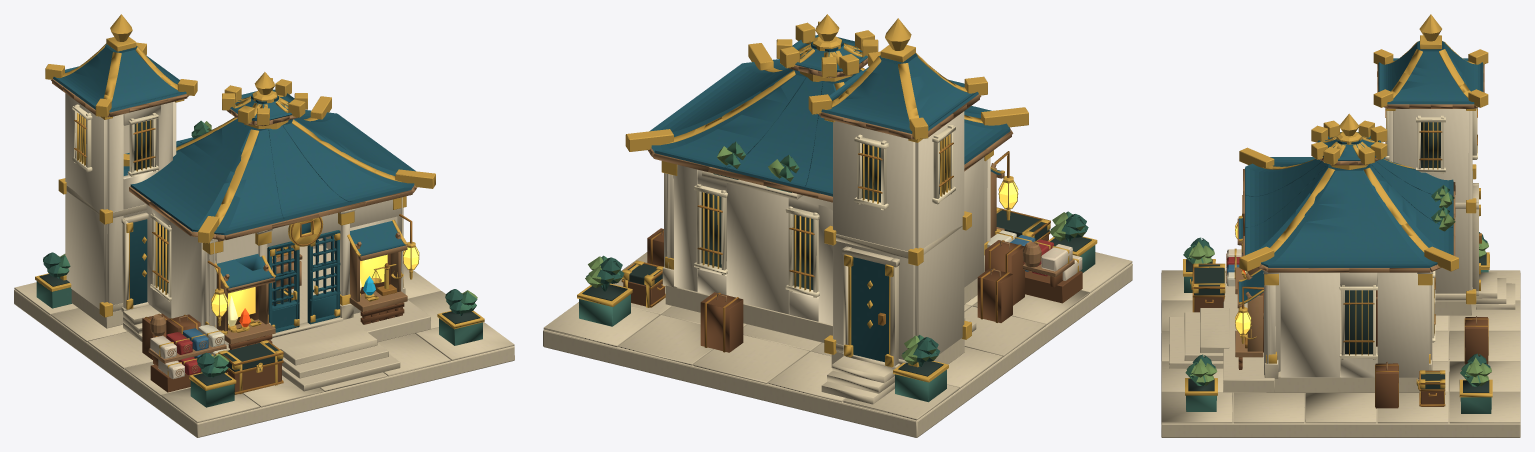
File: treasure-lod1-6e383590d2b8.glb
3 views of the same model, side by side, from view 1: azimuth 30°, elevation 25°; view 2: azimuth 150°, elevation 25°; view 3: azimuth 270°, elevation 25° (orthographic). The views are drawn at different scales.
Visible parts, largest first — view 1: RFbatch_0.026, RFbatch_36.026, RFbatch_9.026, RFbatch_39.026, RFbatch_12.026, RFbatch_41.026, RFbatch_48.026, RFbatch_61.026, RFbatch_20.026, RFbatch_75.026, RFbatch_50.026, RFbatch_40.026 (+5 smaller); view 2: RFbatch_0.026, RFbatch_9.026, RFbatch_36.026, RFbatch_39.026, RFbatch_48.026, RFbatch_61.026, RFbatch_20.026, RFbatch_12.026, RFbatch_41.026, RFbatch_75.026, RFbatch_40.026, RFbatch_79.022 (+3 smaller); view 3: RFbatch_0.026, RFbatch_36.026, RFbatch_9.026, RFbatch_39.026, RFbatch_61.026, RFbatch_12.026, RFbatch_48.026, RFbatch_20.026, RFbatch_79.022, RFbatch_40.026, RFbatch_75.026, RFbatch_78.026 (+2 smaller).
Part boxes in pixels (box(x1,y1,x2,y2)): RFbatch_0.026: box(14, 186, 514, 437); RFbatch_36.026: box(53, 46, 415, 288); RFbatch_9.026: box(65, 93, 403, 344); RFbatch_39.026: box(35, 14, 484, 393); RFbatch_12.026: box(51, 79, 417, 376); RFbatch_41.026: box(130, 219, 340, 332); RFbatch_48.026: box(142, 248, 404, 392); RFbatch_61.026: box(39, 114, 480, 385); RFbatch_20.026: box(72, 104, 171, 301); RFbatch_75.026: box(36, 281, 482, 407); RFbatch_50.026: box(211, 247, 418, 317); RFbatch_40.026: box(74, 120, 412, 394); RFbatch_0.026: box(543, 170, 1132, 437); RFbatch_9.026: box(664, 111, 990, 359); RFbatch_36.026: box(649, 35, 1010, 196); RFbatch_39.026: box(577, 14, 1097, 382); RFbatch_48.026: box(623, 228, 1082, 352); RFbatch_61.026: box(582, 136, 1091, 376); RFbatch_20.026: box(694, 124, 955, 297); RFbatch_12.026: box(647, 58, 1074, 301); RFbatch_41.026: box(851, 257, 888, 362); RFbatch_75.026: box(579, 173, 1095, 402); RFbatch_40.026: box(621, 142, 1050, 352); RFbatch_79.022: box(585, 143, 1086, 365); RFbatch_0.026: box(1161, 171, 1520, 437); RFbatch_36.026: box(1239, 42, 1483, 303); RFbatch_9.026: box(1264, 109, 1472, 377); RFbatch_39.026: box(1183, 14, 1492, 403); RFbatch_61.026: box(1186, 122, 1489, 392); RFbatch_12.026: box(1226, 64, 1484, 370); RFbatch_48.026: box(1194, 290, 1487, 408); RFbatch_20.026: box(1339, 107, 1477, 359); RFbatch_79.022: box(1188, 188, 1491, 386); RFbatch_40.026: box(1192, 109, 1488, 407); RFbatch_75.026: box(1184, 270, 1491, 413); RFbatch_78.026: box(1183, 185, 1480, 386).
Bounding box in the file's own units: 10 × 9.27 × 10.
Materials: 23 (14 with a texture image).
